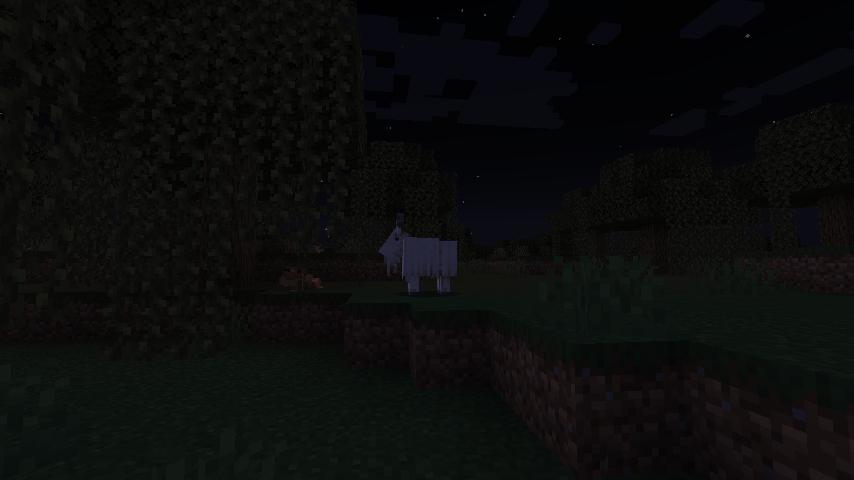frog: (277, 262, 324, 294)
goat: (377, 213, 459, 296)
